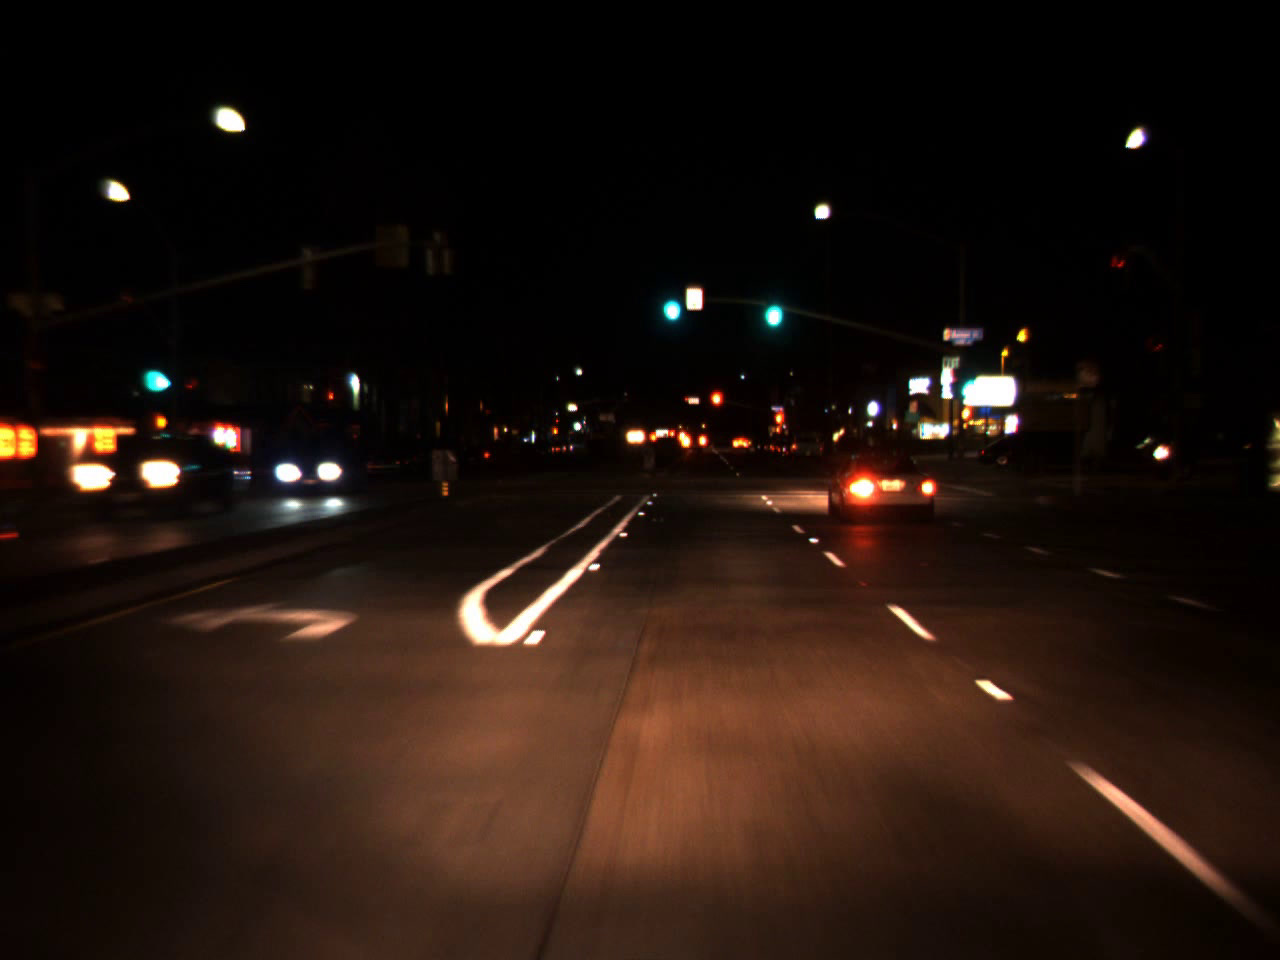go: (758, 276, 786, 336), (138, 345, 168, 399), (656, 276, 684, 327), (956, 358, 981, 406)
stop: (708, 388, 724, 425), (772, 409, 787, 436)
